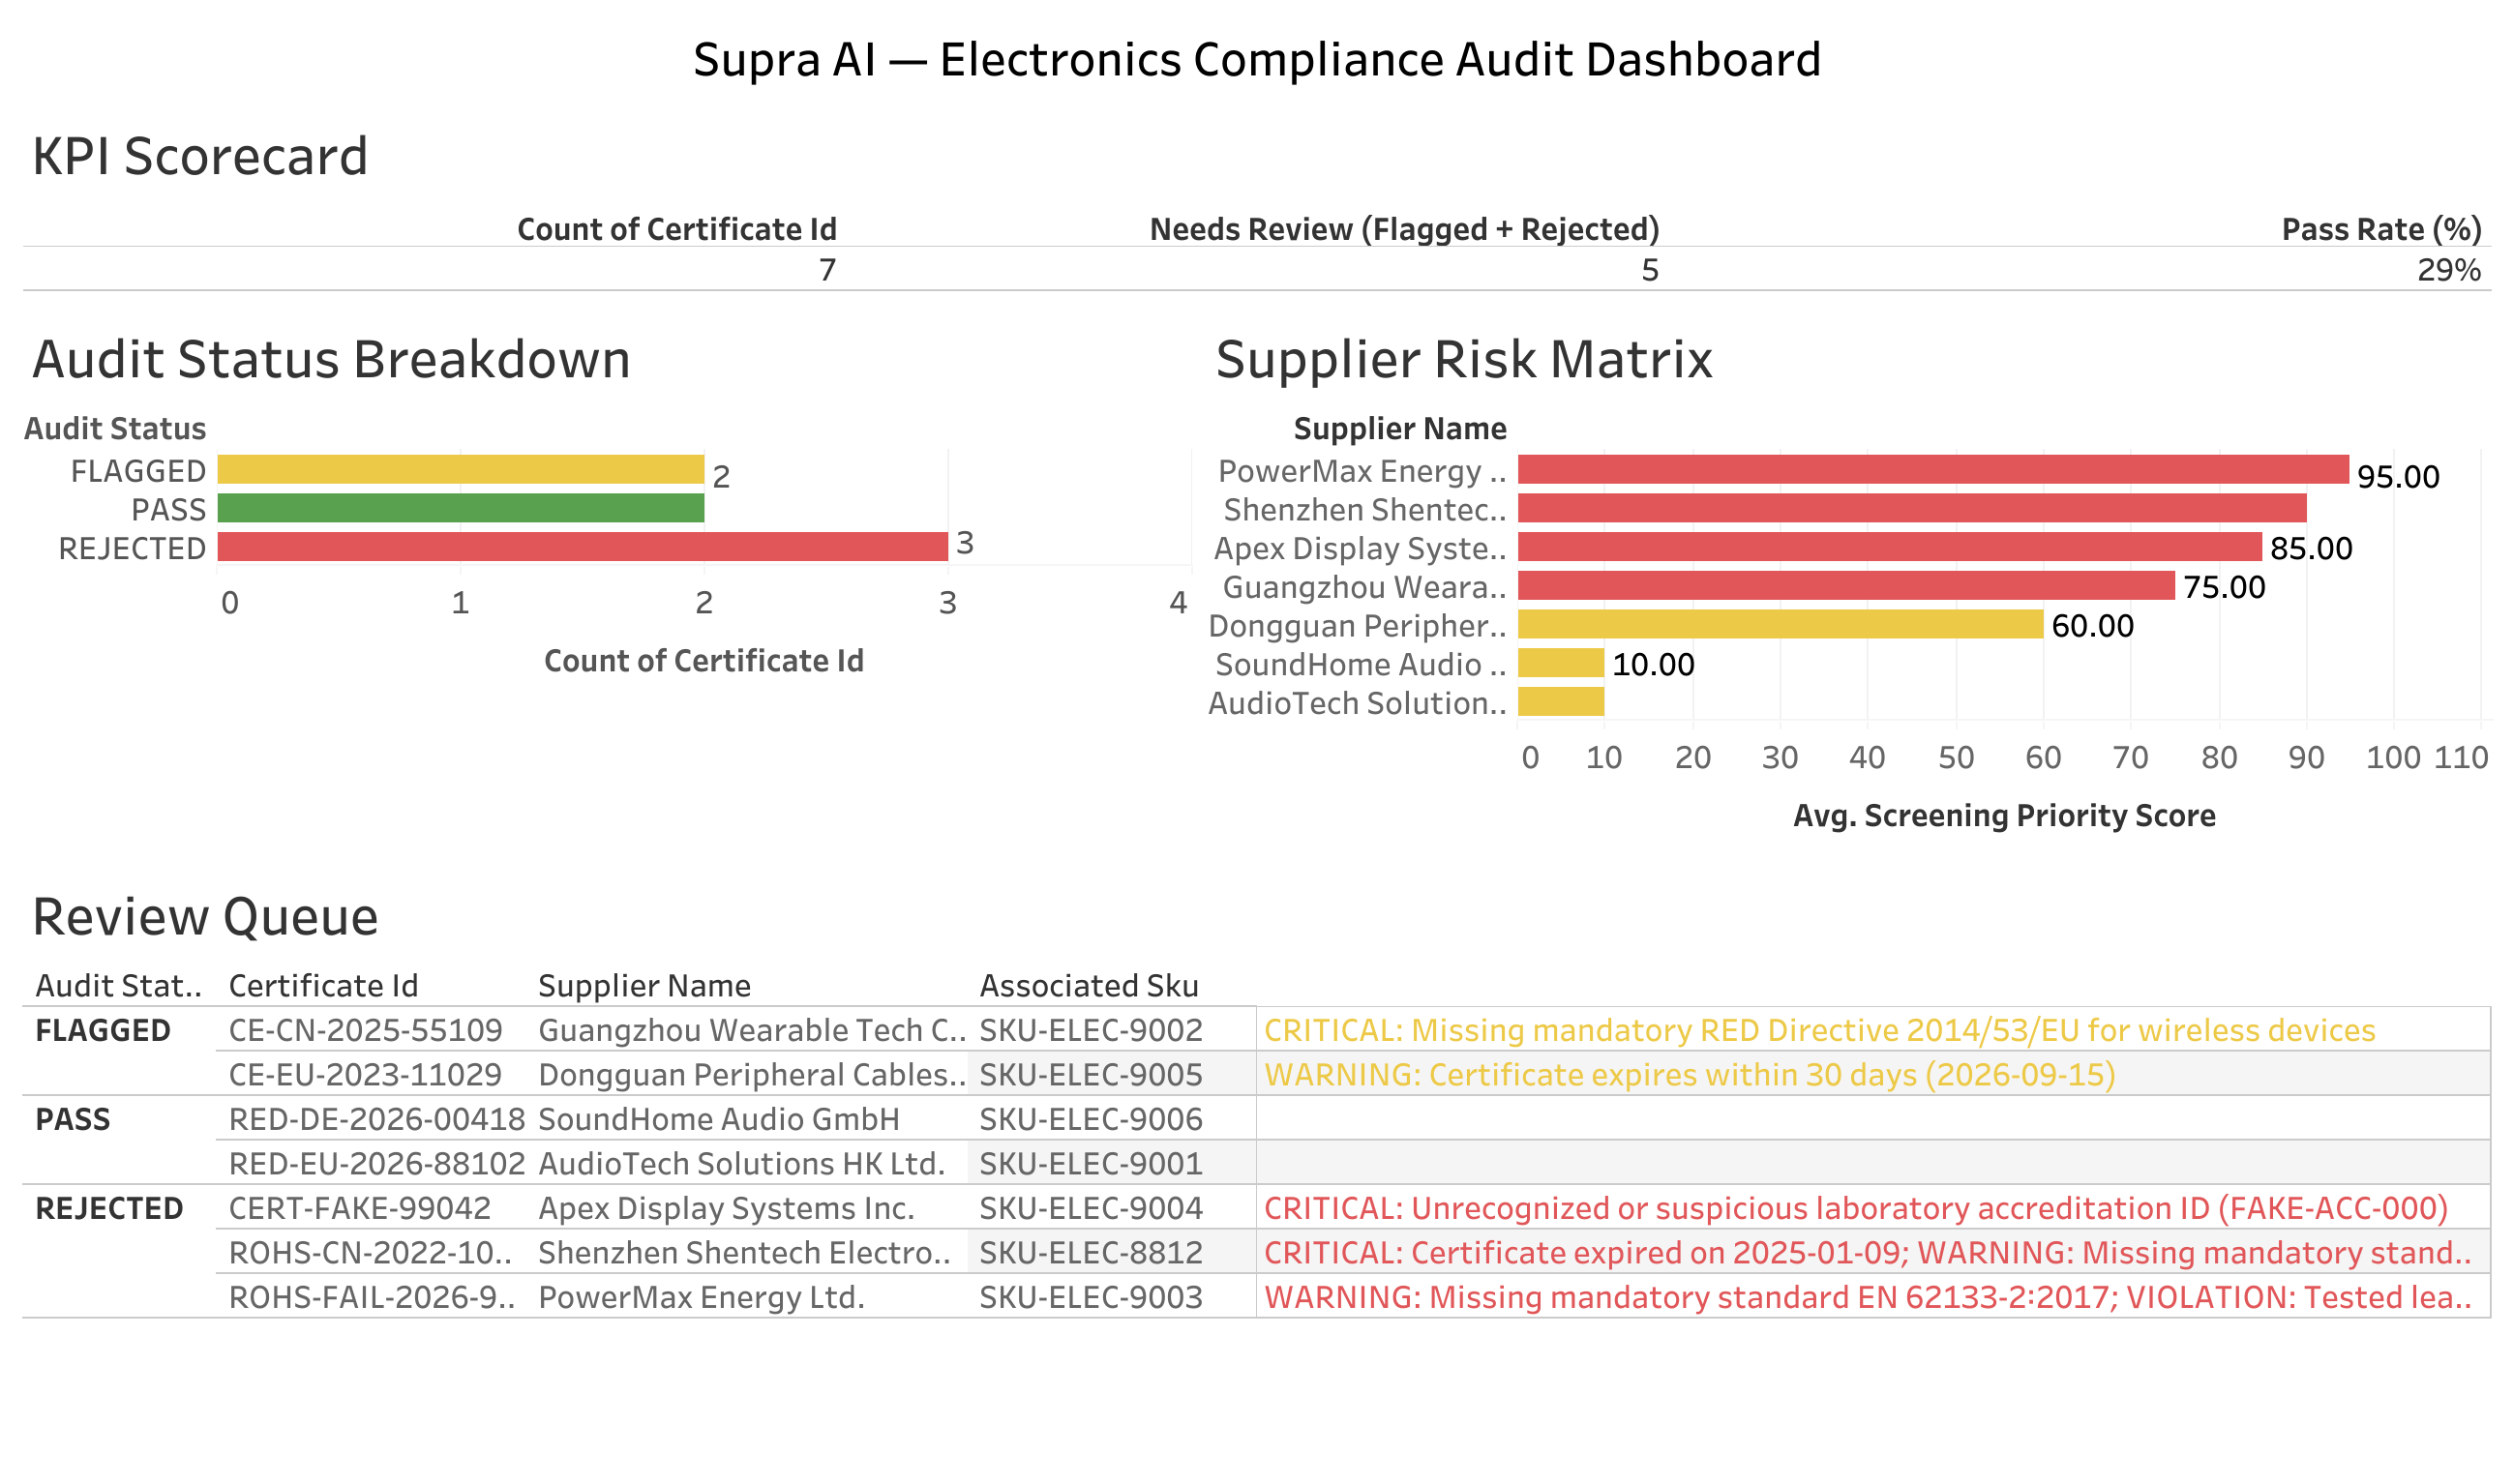

This screenshot's page, from the dashboard's own definition file:
{"tool":"tableau","page":{"name":"Supra AI Compliance Dashboard","canvas":[1300,768],"ordinal":0},"visuals":[{"type":"title","box":[8,8,1284,42]},{"type":"worksheet","title":"KPI Scorecard","mark":"Automatic","box":[8,50,1284,105]},{"type":"worksheet","title":"Audit Status Breakdown","mark":"Automatic","rows":["audit_status"],"cols":["certificate_id"],"box":[8,155,612,288]},{"type":"worksheet","title":"Supplier Risk Matrix","mark":"Automatic","rows":["supplier_name"],"cols":["screening_priority_score"],"box":[620,155,672,288]},{"type":"worksheet","title":"Review Queue","mark":"Text","rows":["audit_status","certificate_id","supplier_name","associated_sku"],"box":[8,443,1284,243]}]}

Visuals, with their boxes in screenshot pixels (x1, y1, x2, y2), scaled from the page's 1300x768 canvas onto the 2514x1484 screenshot:
title: bbox(15, 15, 2499, 97)
"KPI Scorecard" worksheet: bbox(15, 97, 2499, 300)
"Audit Status Breakdown" worksheet: bbox(15, 300, 1199, 856)
"Supplier Risk Matrix" worksheet: bbox(1199, 300, 2499, 856)
"Review Queue" worksheet (Text marks): bbox(15, 856, 2499, 1325)
